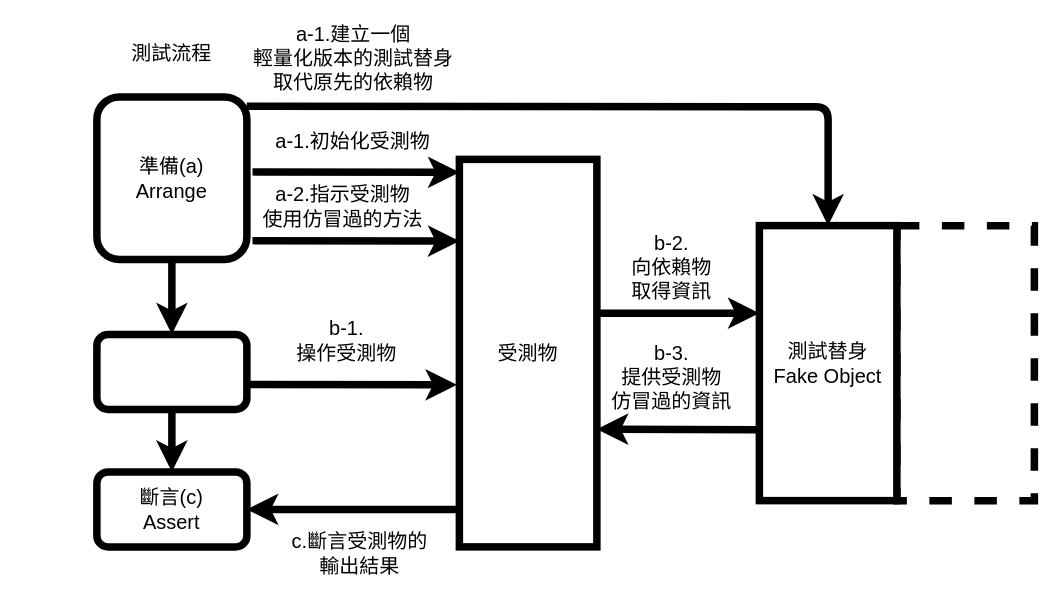
Some shapes in this 1059 by 598 pixel diagram are drawn without their labels. The shapes that lost their labels are listed below. From the top down, each one's centre as x and y in pixels, then its label:
At [171,371]: "操作(b) Act".
At [965,362]: "依賴物".
